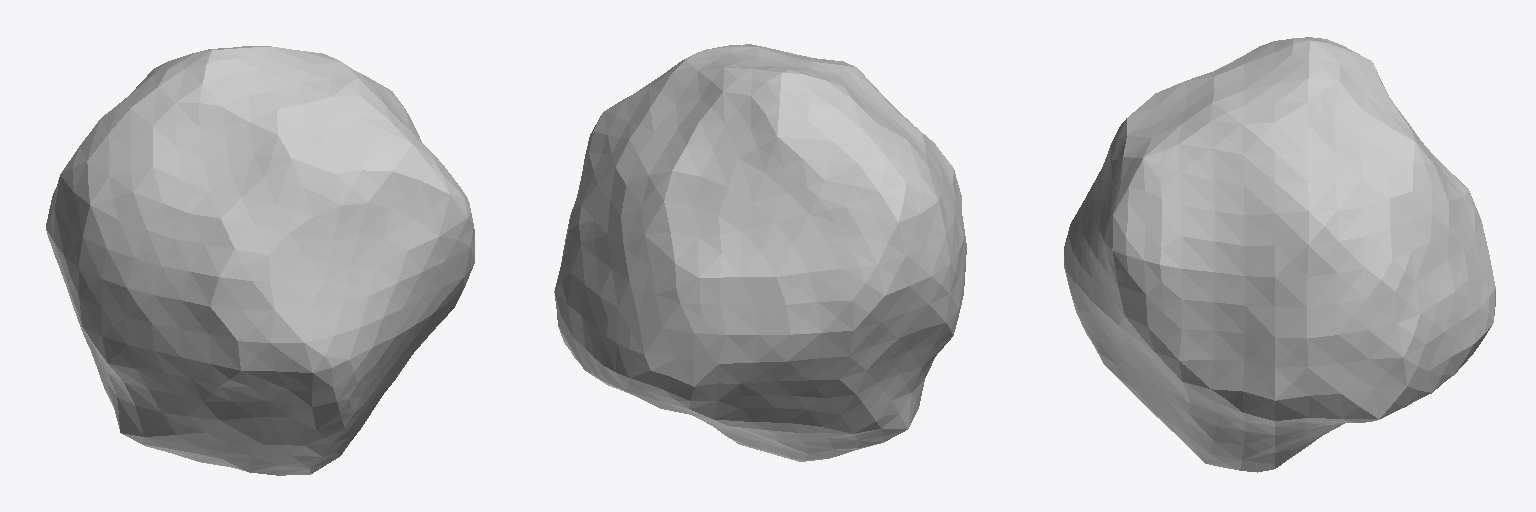
The model's file is 29075_1950_DA_Prograde.obj.
3 renders of one model, left to right at view 1: azimuth 30°, elevation 25°; view 2: azimuth 150°, elevation 25°; view 3: azimuth 270°, elevation 25°, orthographic.
Parts seen in each view (by area): view 1: 29075_1950_DA_Prograde; view 2: 29075_1950_DA_Prograde; view 3: 29075_1950_DA_Prograde.
Boxes of the visible parts, x1=… form: 29075_1950_DA_Prograde: x1=46, y1=46, x2=474, y2=475; 29075_1950_DA_Prograde: x1=554, y1=44, x2=966, y2=461; 29075_1950_DA_Prograde: x1=1064, y1=37, x2=1495, y2=472.
Size of the model in its own units: 1.19 by 1.28 by 1.24.